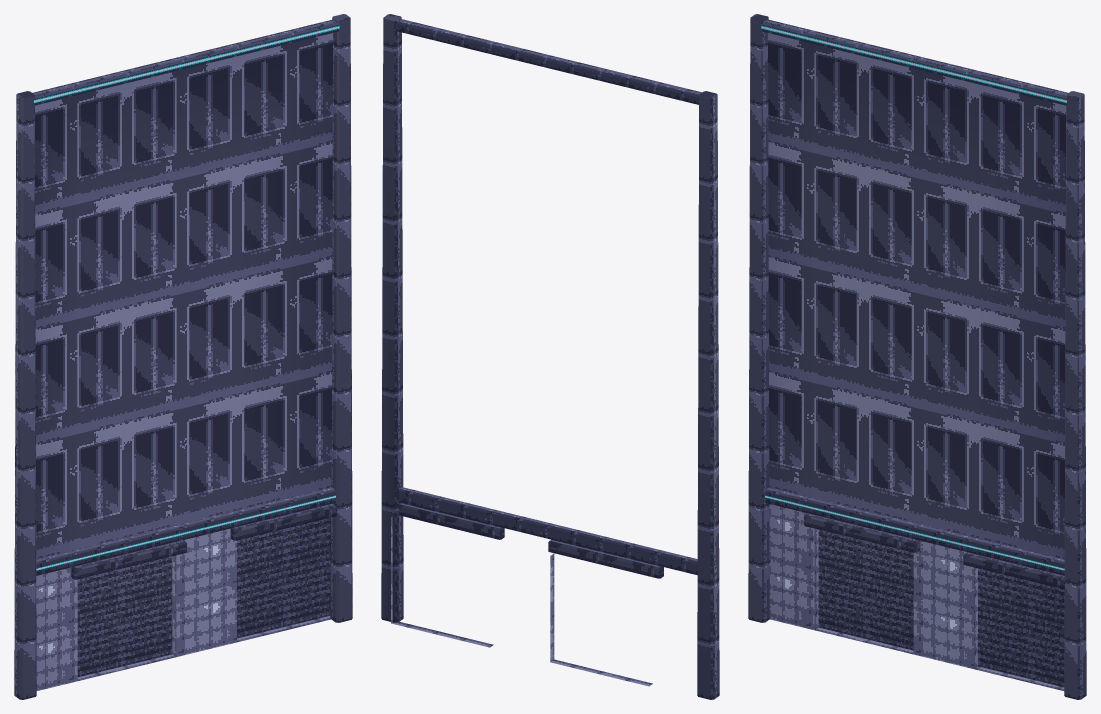
Rendered from cytower.facade__canyon.glb.
3 renders of one model, left to right at view 1: azimuth 30°, elevation 25°; view 2: azimuth 150°, elevation 25°; view 3: azimuth 330°, elevation 25°, orthographic.
Parts seen in each view (by area): view 1: kit_shell_front, kit_trim, kit_card_windows; view 2: kit_trim, kit_shell_front; view 3: kit_shell_front, kit_trim, kit_card_windows.
Boxes of the visible parts, x1,y1,x2,y2 form: kit_shell_front: (35, 33, 332, 690); kit_trim: (14, 14, 352, 699); kit_card_windows: (34, 25, 339, 571); kit_trim: (381, 14, 719, 699); kit_shell_front: (391, 516, 652, 686); kit_shell_front: (768, 33, 1065, 690); kit_trim: (748, 14, 1086, 699); kit_card_windows: (761, 25, 1066, 571).
Size of the model in its own units: 12.12 by 20.9 by 0.6.
9 materials, 9 textured.
